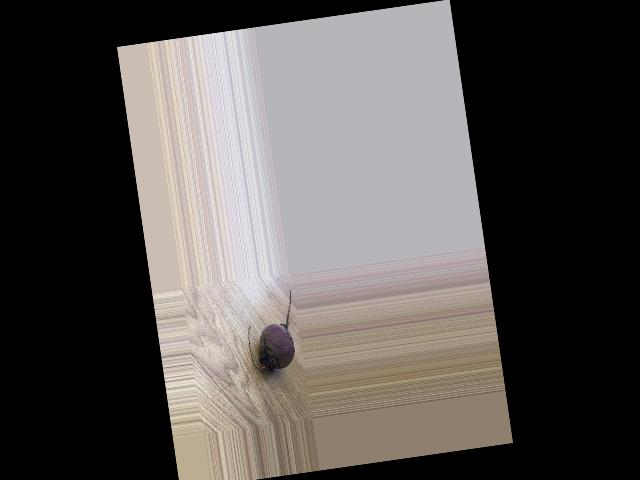beet: (242, 289, 302, 374)
